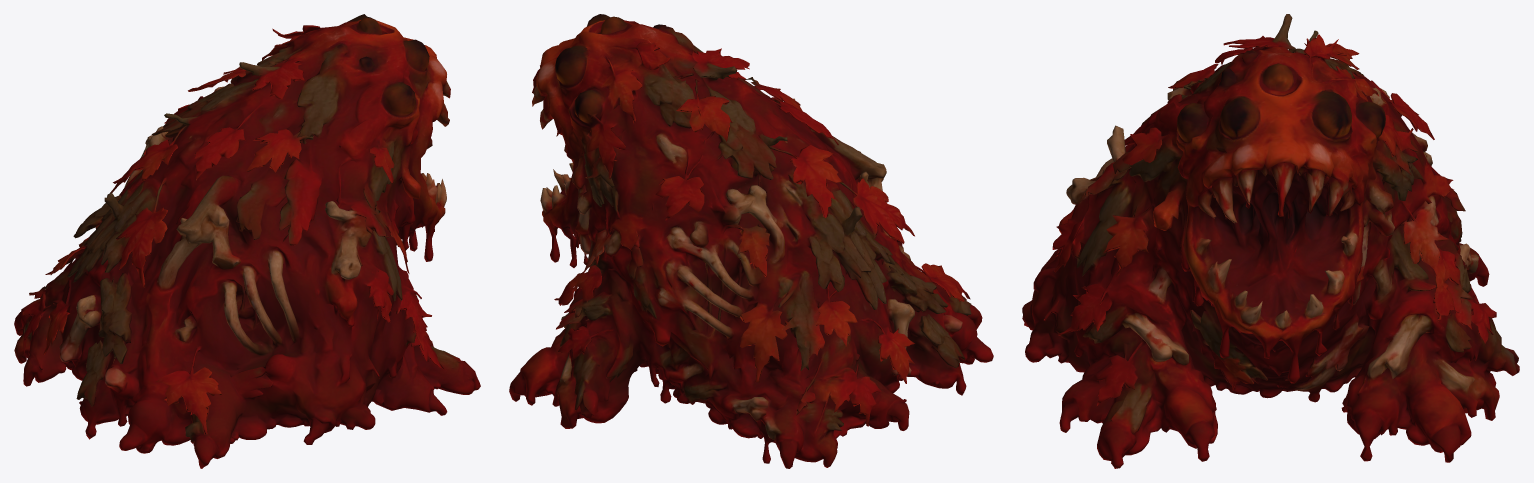
The model's file is SapHorror-tripo.glb.
3 renders of one model, left to right at view 1: azimuth 30°, elevation 25°; view 2: azimuth 150°, elevation 25°; view 3: azimuth 270°, elevation 25°, orthographic. The views are drawn at different scales.
Parts seen in each view (by area): view 1: tripo_node_7a87a056-fb54-4c5b-b2ed-f746be46729c; view 2: tripo_node_7a87a056-fb54-4c5b-b2ed-f746be46729c; view 3: tripo_node_7a87a056-fb54-4c5b-b2ed-f746be46729c.
Boxes of the visible parts, x1,y1,x2,y2 form: tripo_node_7a87a056-fb54-4c5b-b2ed-f746be46729c: (14,14,480,468); tripo_node_7a87a056-fb54-4c5b-b2ed-f746be46729c: (509,14,993,468); tripo_node_7a87a056-fb54-4c5b-b2ed-f746be46729c: (1022,14,1519,468).
Bounding box in the file's own units: 1 × 0.8007 × 0.9359.
Materials: 1 (1 with a texture image).
